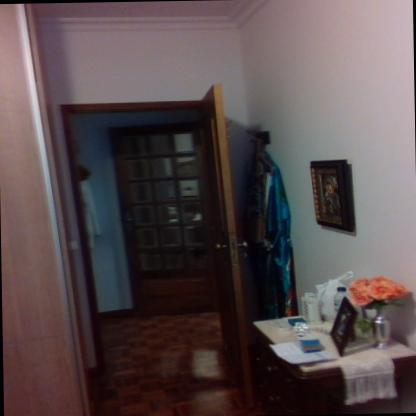open: (48, 79, 256, 416)
